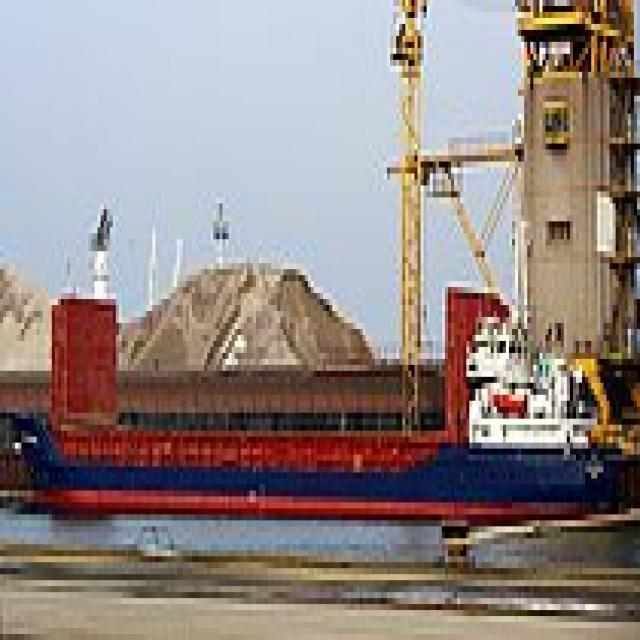Ship: (22, 193, 617, 540)
